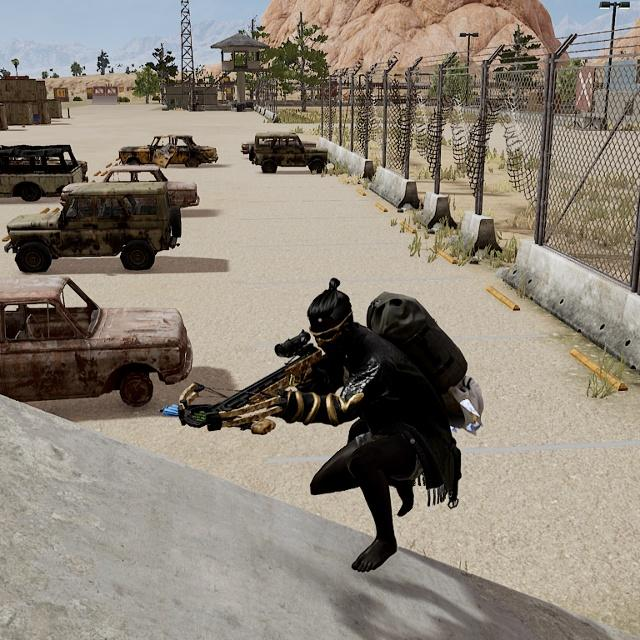head: (298, 278, 370, 367)
people: (263, 251, 481, 585)
